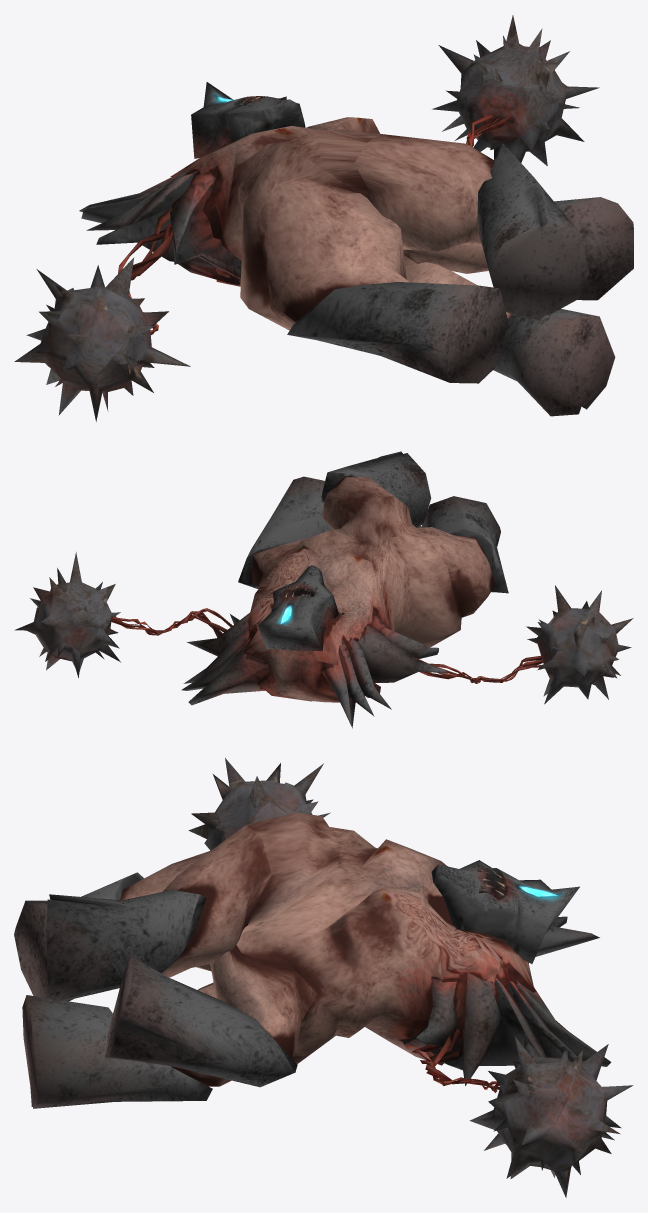
Rendered from FatGuyDead_LOD3.fbx.
3 views of the same model, one above another, from view 1: azimuth 30°, elevation 25°; view 2: azimuth 150°, elevation 25°; view 3: azimuth 270°, elevation 25° (orthographic). The views are drawn at different scales.
Visible parts, largest first — view 1: FatGuyDead_LOD3; view 2: FatGuyDead_LOD3; view 3: FatGuyDead_LOD3.
Part boxes in pixels (x1,y1,x2,y2): FatGuyDead_LOD3: [14, 15, 633, 421]; FatGuyDead_LOD3: [14, 451, 633, 728]; FatGuyDead_LOD3: [14, 758, 633, 1197].
Size of the model in its own units: 6.16 by 1.87 by 4.61.
